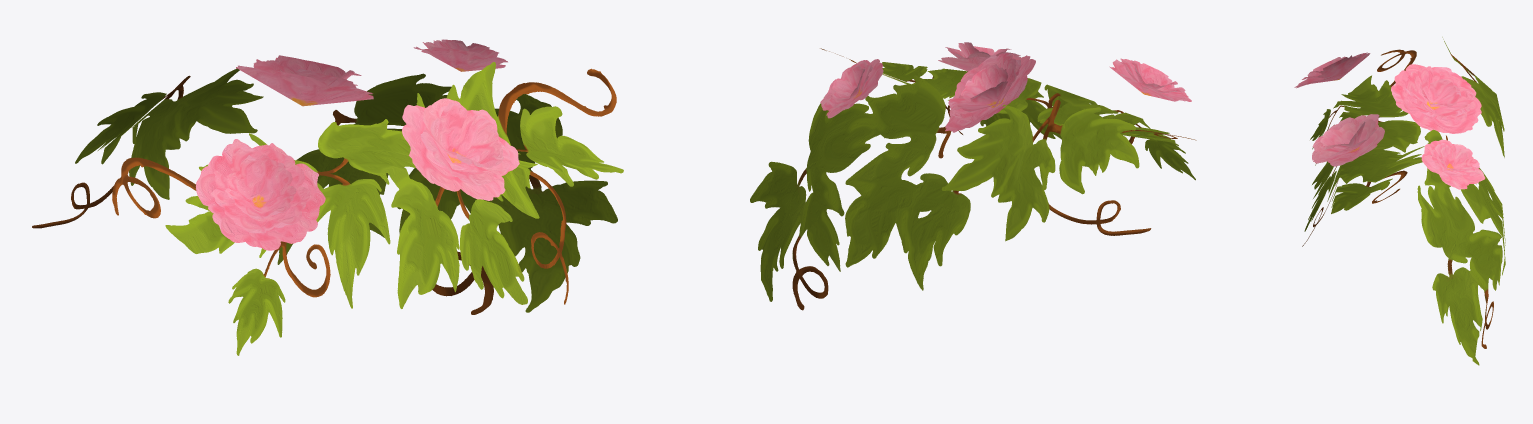
The model's file is sm_fleurs_06.fbx.
3 views of the same model, side by side, from view 1: azimuth 30°, elevation 25°; view 2: azimuth 150°, elevation 25°; view 3: azimuth 270°, elevation 25° (orthographic). The views are drawn at different scales.
Visible parts, largest first — view 1: sm_fleurs_06; view 2: sm_fleurs_06; view 3: sm_fleurs_06.
Part boxes in pixels (x1=…): sm_fleurs_06: x1=32, y1=39, x2=623, y2=355; sm_fleurs_06: x1=750, y1=42, x2=1196, y2=310; sm_fleurs_06: x1=1294, y1=37, x2=1505, y2=365.
Size of the model in its own units: 123 by 91.31 by 67.82.
